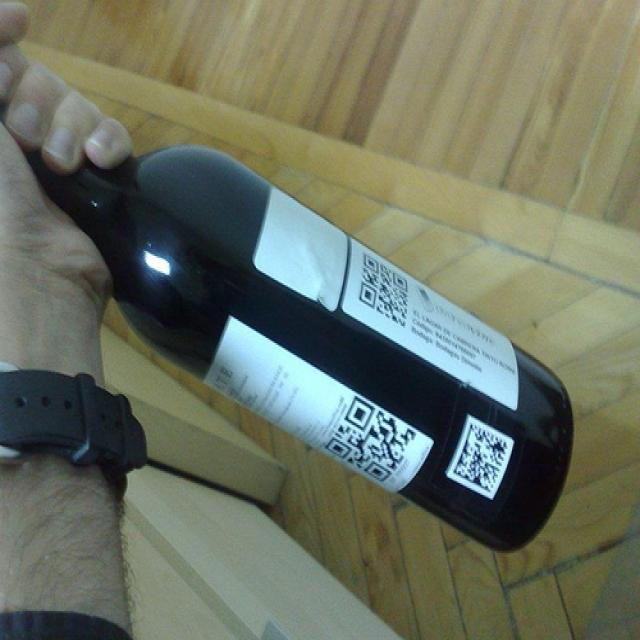qr-code: (324, 396, 416, 483), (360, 252, 408, 326)
